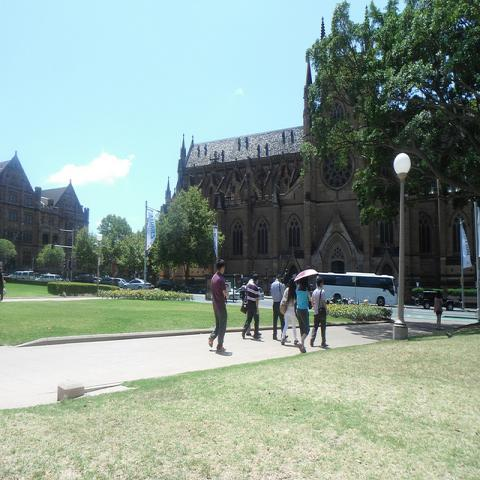bus: (317, 272, 398, 306)
car: (69, 264, 455, 328), (122, 278, 152, 290), (8, 270, 36, 280), (156, 280, 180, 291), (36, 272, 62, 281), (184, 284, 206, 293), (109, 278, 128, 288), (226, 289, 242, 300), (99, 276, 114, 284), (238, 285, 246, 298), (257, 286, 264, 300)
